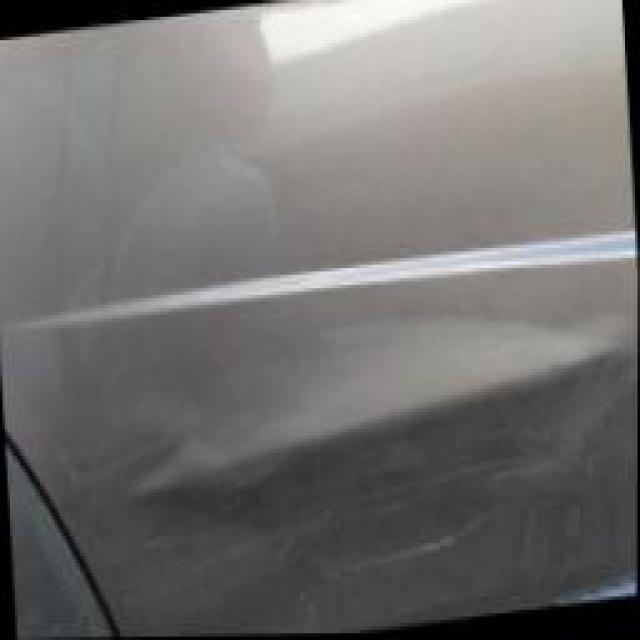Door: (10, 221, 639, 640)
